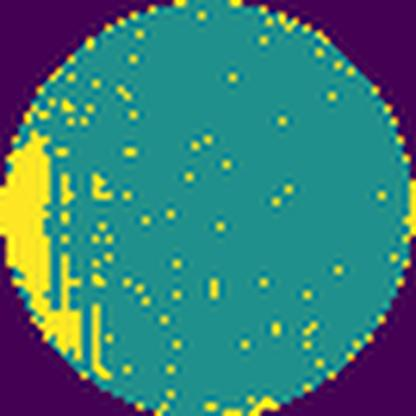Edge-Loc: (0, 124, 107, 378)
